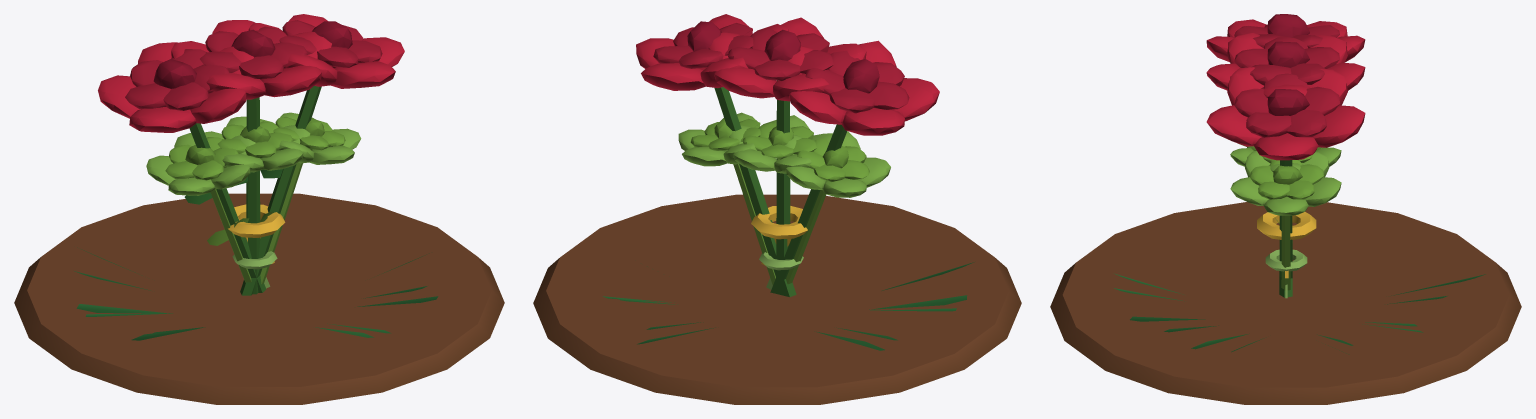
The model's file is rose.glb.
The picture shows the model from 3 angles, left to right: view 1: azimuth 30°, elevation 25°; view 2: azimuth 150°, elevation 25°; view 3: azimuth 270°, elevation 25°; orthographic projection. The views are drawn at different scales.
Visible parts, largest first — view 1: crop-rose-giant-2, crop-rose-giant; view 2: crop-rose-giant-2, crop-rose-giant; view 3: crop-rose-giant-2, crop-rose-giant.
Part boxes in pixels (x1,y1,x2,y2): crop-rose-giant-2: [14, 112, 504, 404]; crop-rose-giant: [76, 14, 438, 340]; crop-rose-giant-2: [533, 112, 1021, 404]; crop-rose-giant: [603, 14, 974, 350]; crop-rose-giant-2: [1050, 143, 1521, 404]; crop-rose-giant: [1114, 14, 1485, 354].
Size of the model in its own units: 5.61 by 3.62 by 5.7.
